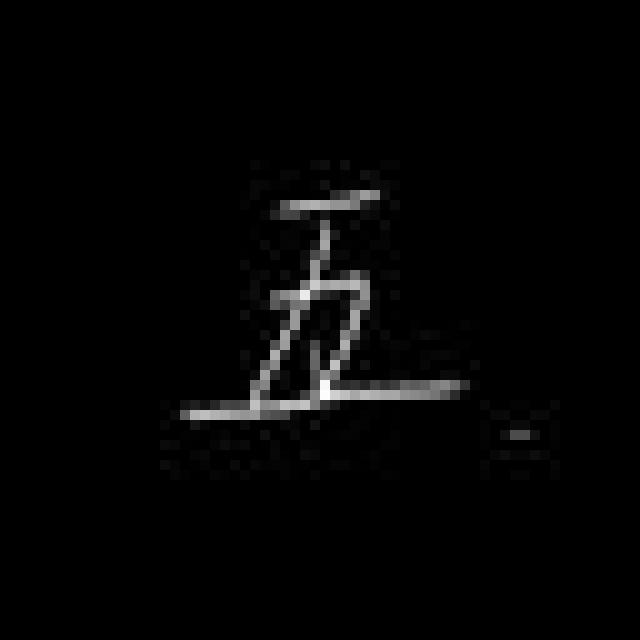5 -five-: (178, 174, 460, 430)
